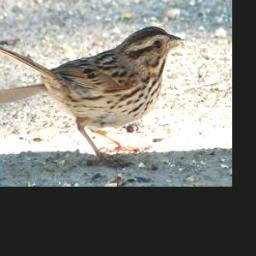Sparrow: (0, 24, 187, 170)
